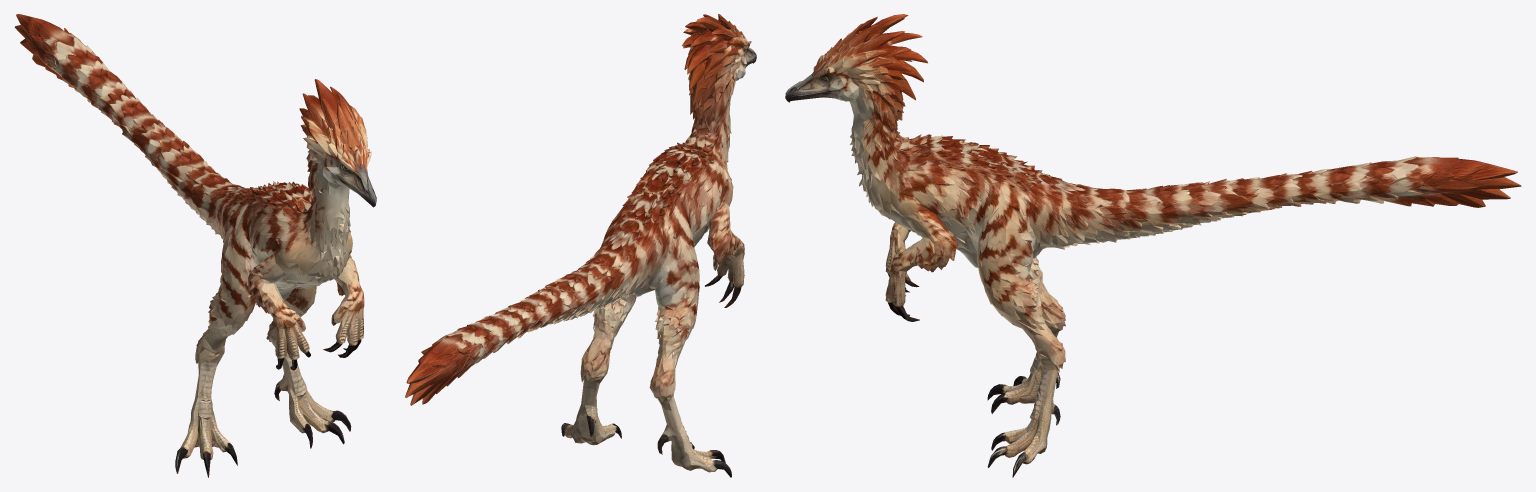
The model's file is dunestalker.glb.
3 views of the same model, side by side, from view 1: azimuth 30°, elevation 25°; view 2: azimuth 150°, elevation 25°; view 3: azimuth 270°, elevation 25° (orthographic). The views are drawn at different scales.
Parts seen in each view (by area): view 1: Mesh_0; view 2: Mesh_0; view 3: Mesh_0.
Part boxes in pixels (x1=…): Mesh_0: x1=14, y1=14, x2=376, y2=477; Mesh_0: x1=405, y1=14, x2=756, y2=477; Mesh_0: x1=785, y1=14, x2=1521, y2=477.
Bounding box in the file's own units: 0.5323 × 1.2 × 1.9.
1 material, 1 textured.
